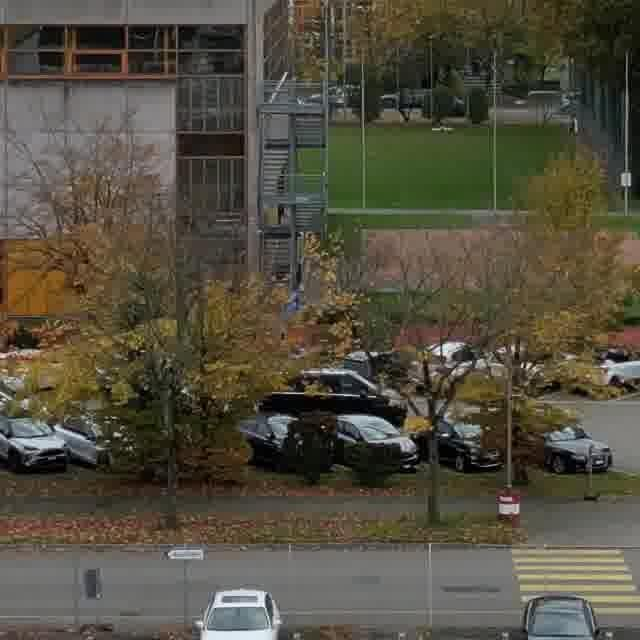Drohne: (433, 126, 451, 131)
